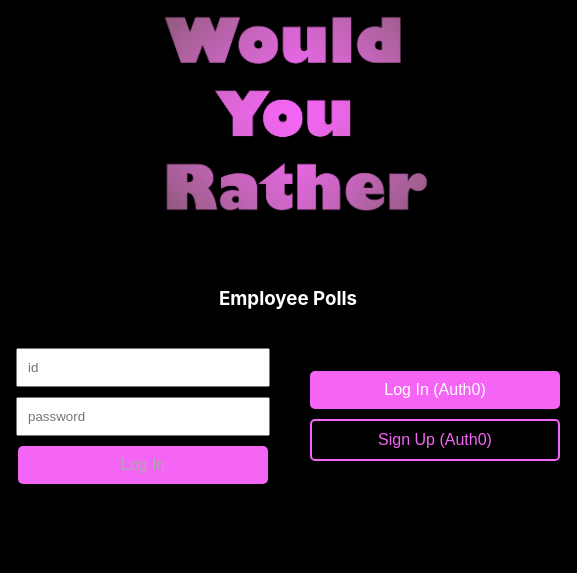
Test: testing <LoginPage /> › should disaply errors when user not found.
Type "test" into the field with test id "id-input" at (143, 368), box [16,348,270,387]
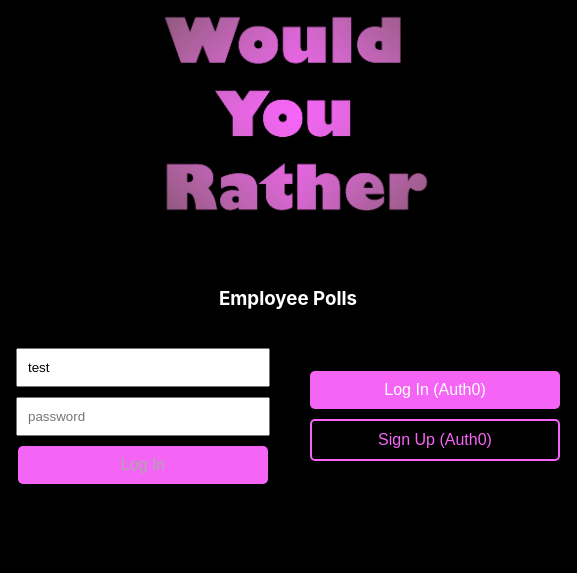
Type "test" into the password field with test id "pw-input" at (143, 417), box [16,397,270,436]
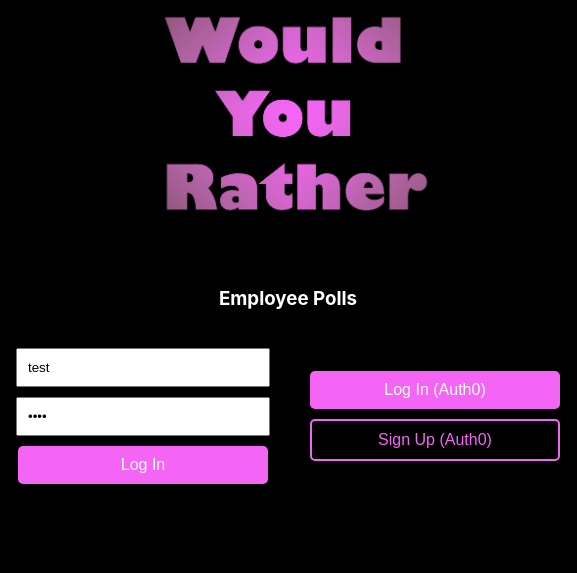
Submit the form with test id "login-form", box [16,348,270,494]
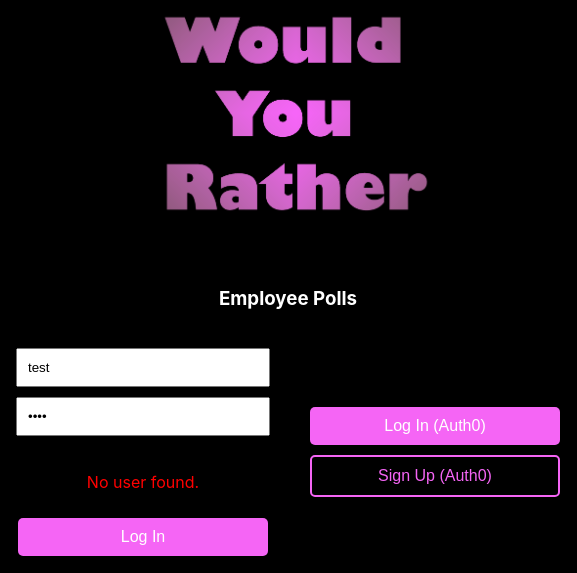
Now the element with test id "errors-list" reads "No user found.", box [87,472,199,492]
